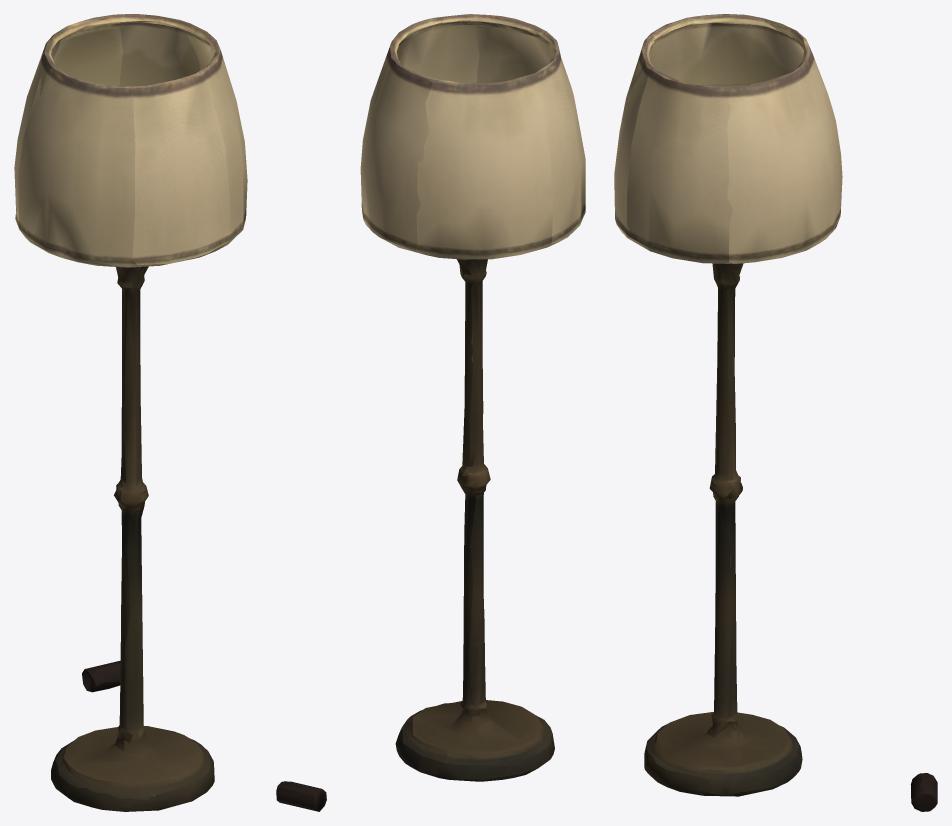
Rendered from lamp.glb.
3 renders of one model, left to right at view 1: azimuth 30°, elevation 25°; view 2: azimuth 150°, elevation 25°; view 3: azimuth 270°, elevation 25°, orthographic. The views are drawn at different scales.
Parts seen in each view (by area): view 1: world; view 2: world; view 3: world.
Part boxes in pixels (x1,y1,x2,y2): world: [14, 14, 247, 811]; world: [276, 14, 585, 811]; world: [614, 14, 937, 811].
Size of the model in its own units: 0.4325 by 1.5 by 0.6138.
1 material, 1 textured.
